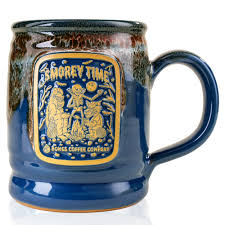mug: (1, 12, 214, 216)
